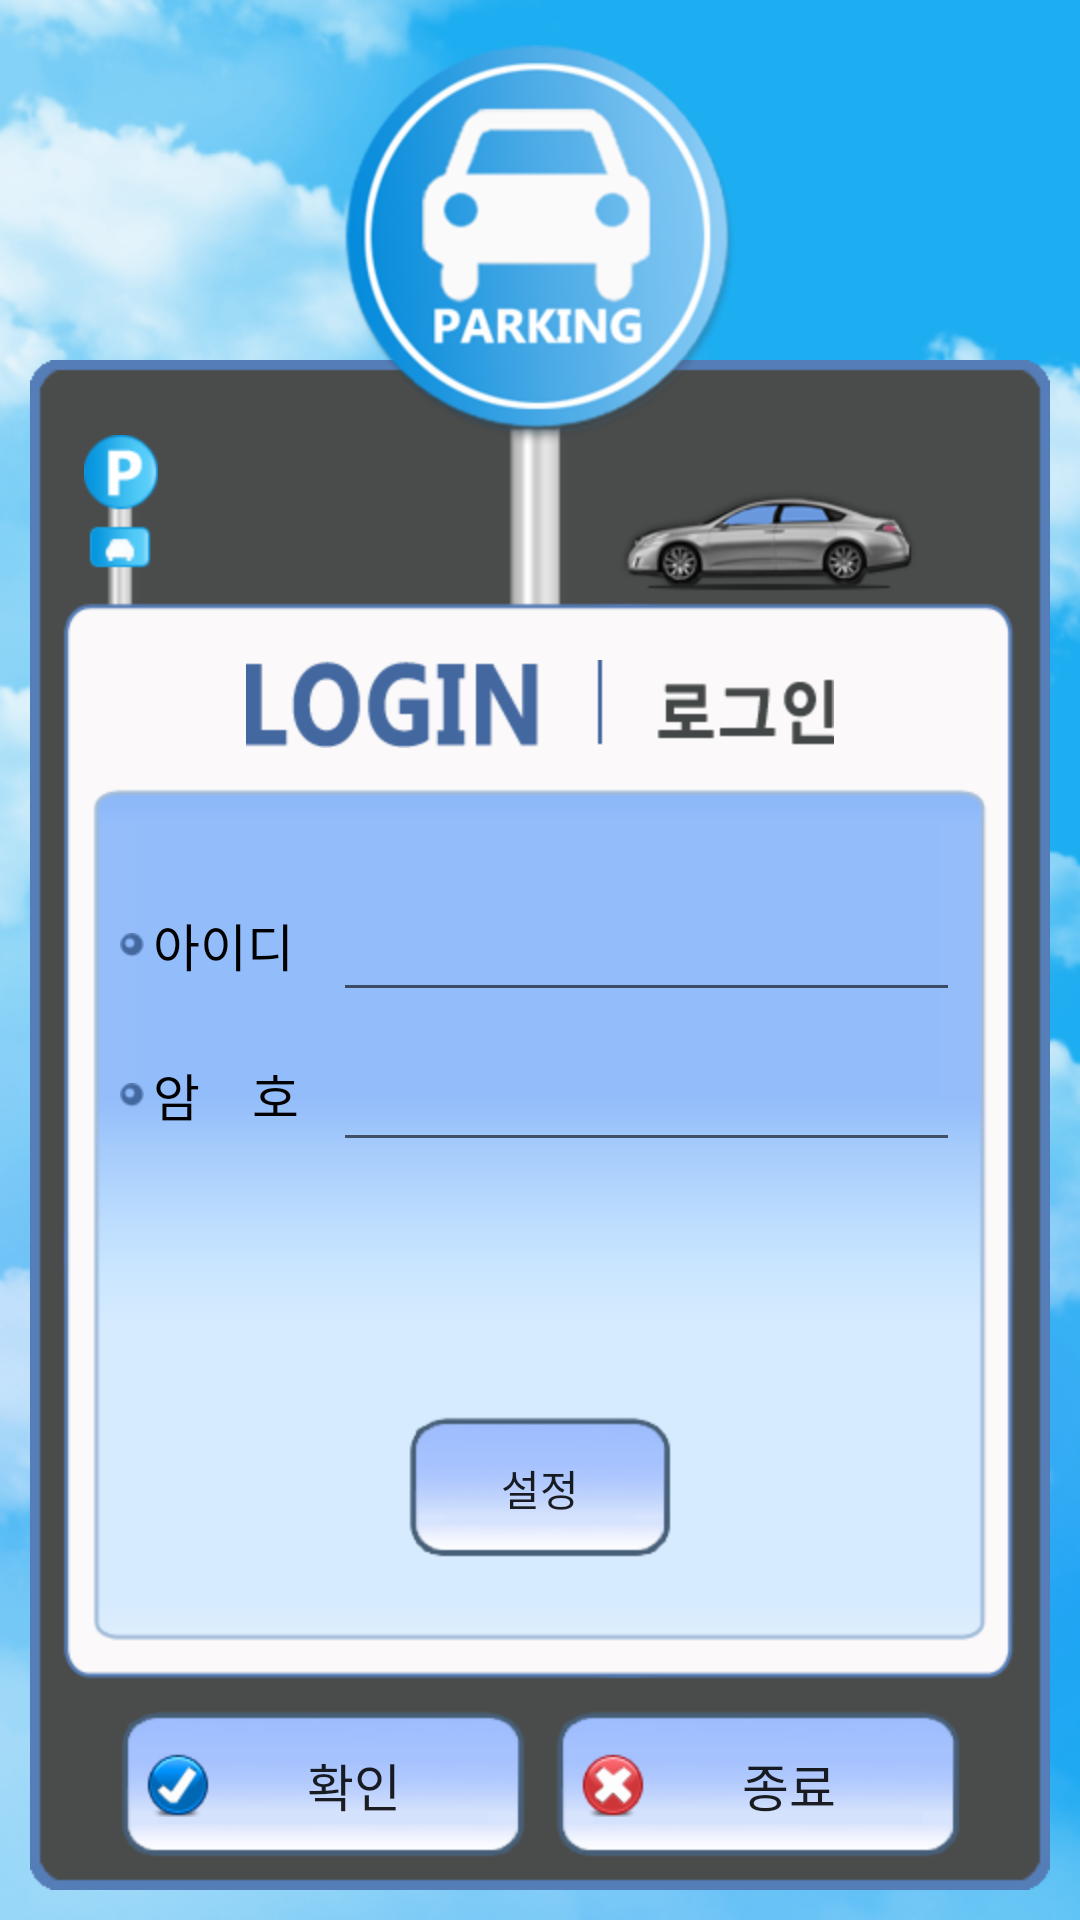

Icon bounding boxes for this 1080 × 1920 phone screenshot, format (x1, y1, x2, y2):
car: (628, 499, 911, 590)
column: (506, 423, 574, 637)
dot: (120, 933, 144, 956), (120, 1083, 144, 1106)
